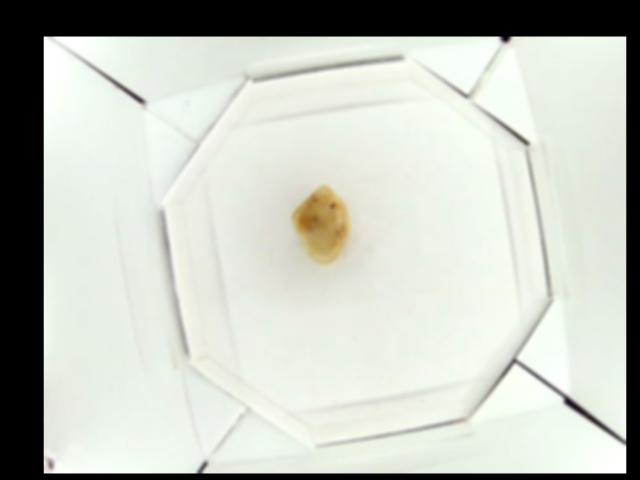Pebble: (294, 184, 349, 265)
